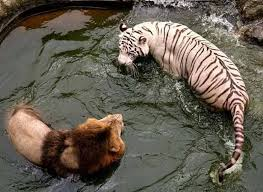lion: (8, 100, 133, 182)
tiger: (113, 16, 263, 174)
